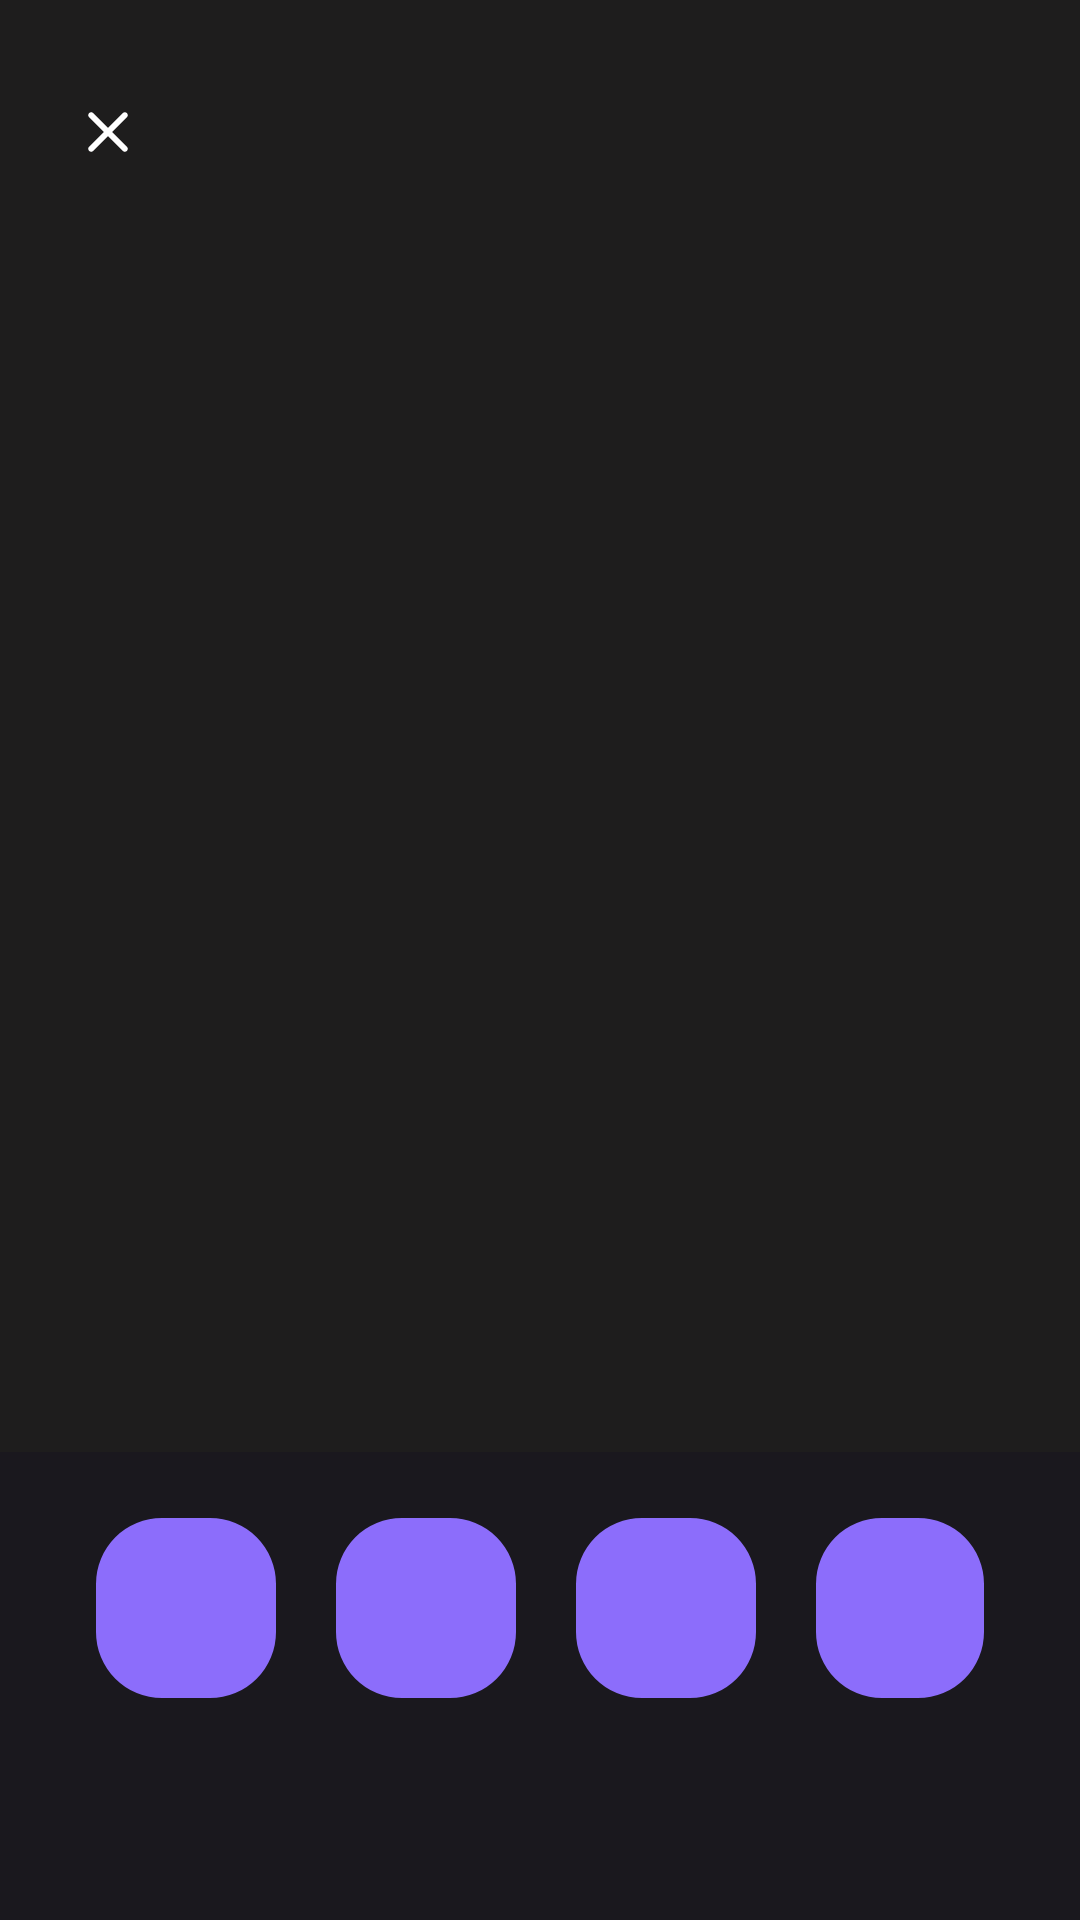

Icon bounding boxes for this 1080 × 1920 phone screenshot, format (x1, y1, x2, y2):
close: (88, 112, 128, 152)
